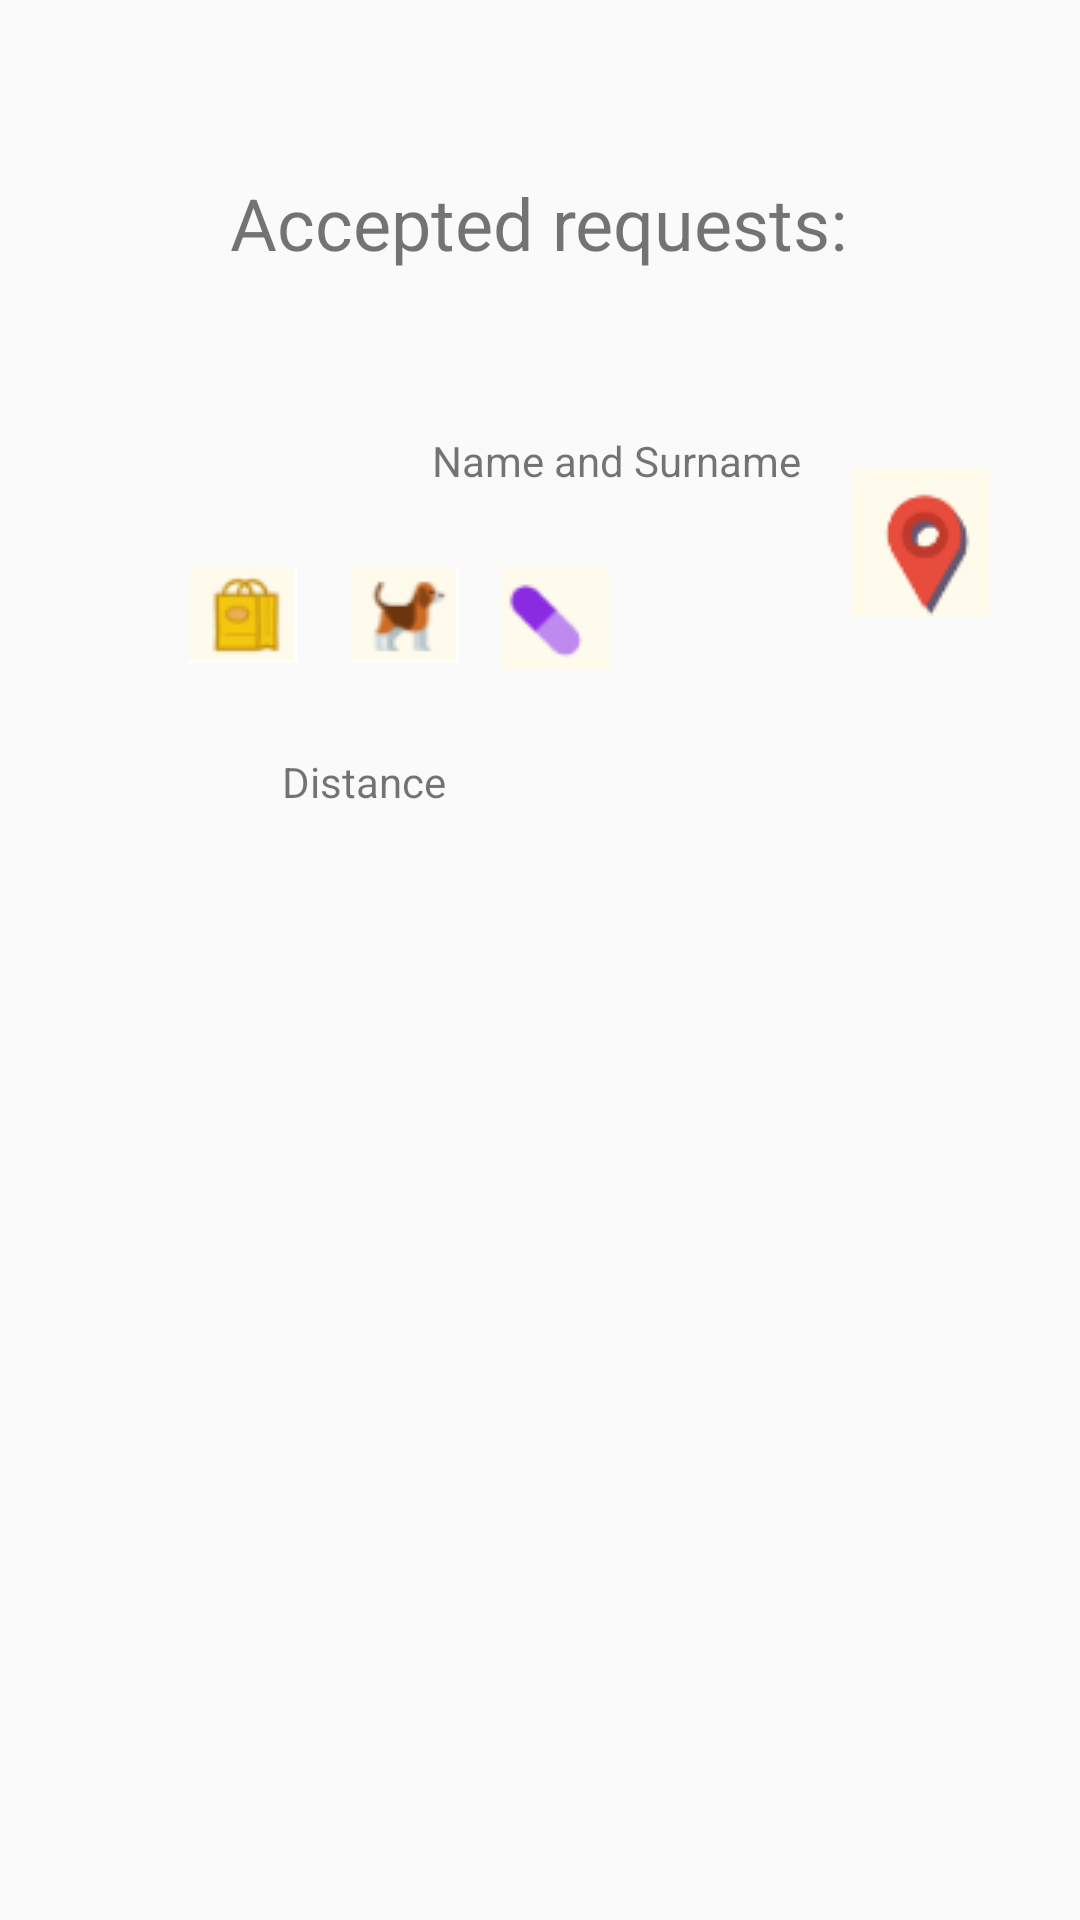

Where to tap for icons on this 1080×1920 app screen, as (x=x, y=y):
distance: (x=927, y=554)
dog: (x=409, y=616)
medicines: (x=545, y=620)
shop: (x=247, y=615)
